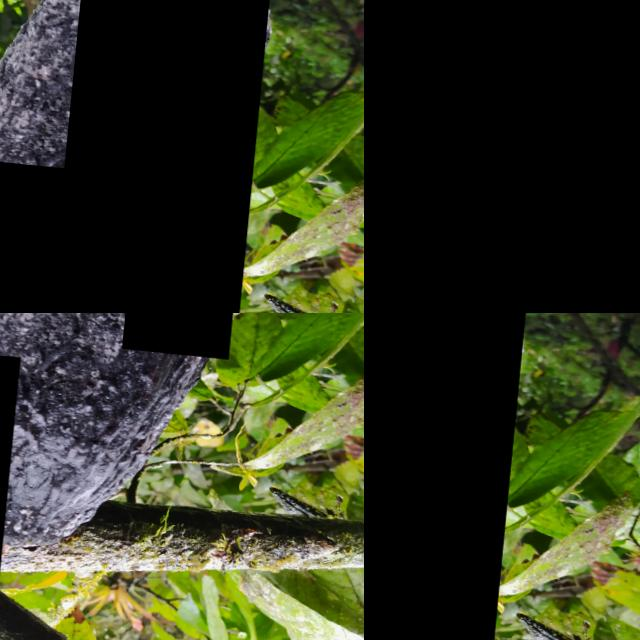Fitoftora: (364, 313, 536, 640)
Monilia: (58, 0, 275, 313)
Sana: (364, 0, 640, 313), (0, 155, 122, 313), (128, 313, 243, 351)
